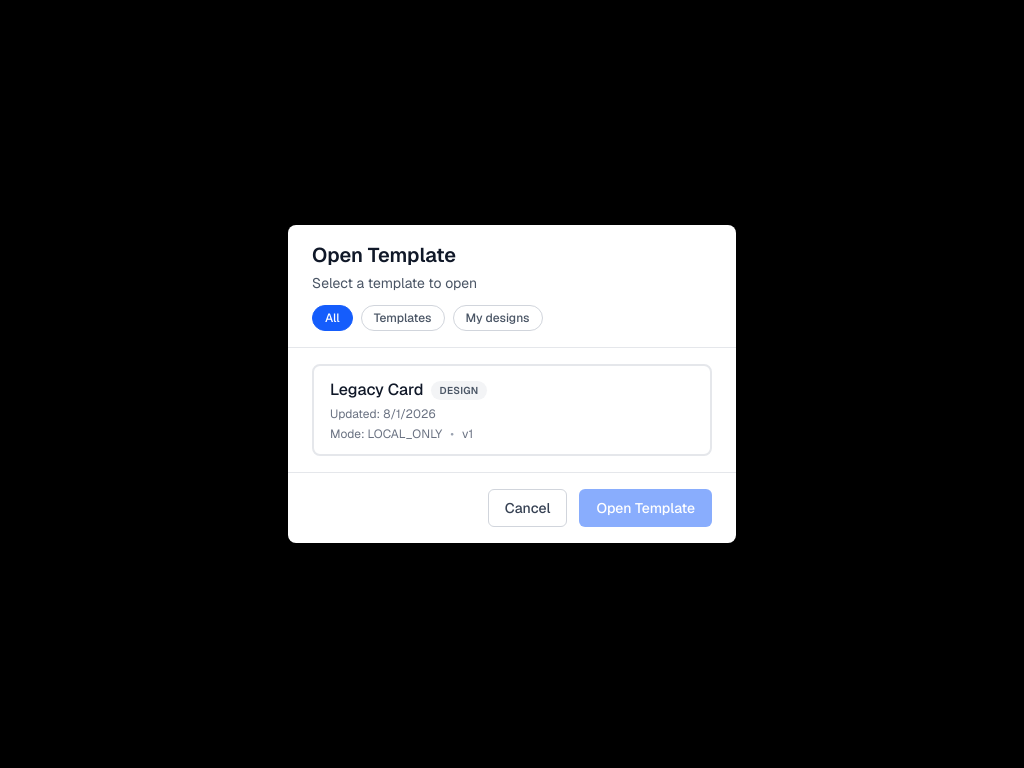
OpenTemplateModal gallery kind filter (Pass 4) › treats items without a kind as designs (legacy entries)
Check: the text "Legacy Card" is shown, box [330, 378, 424, 402]
Step 1. Click the button "My designs" → coordinates (498, 318), box [452, 305, 542, 331]
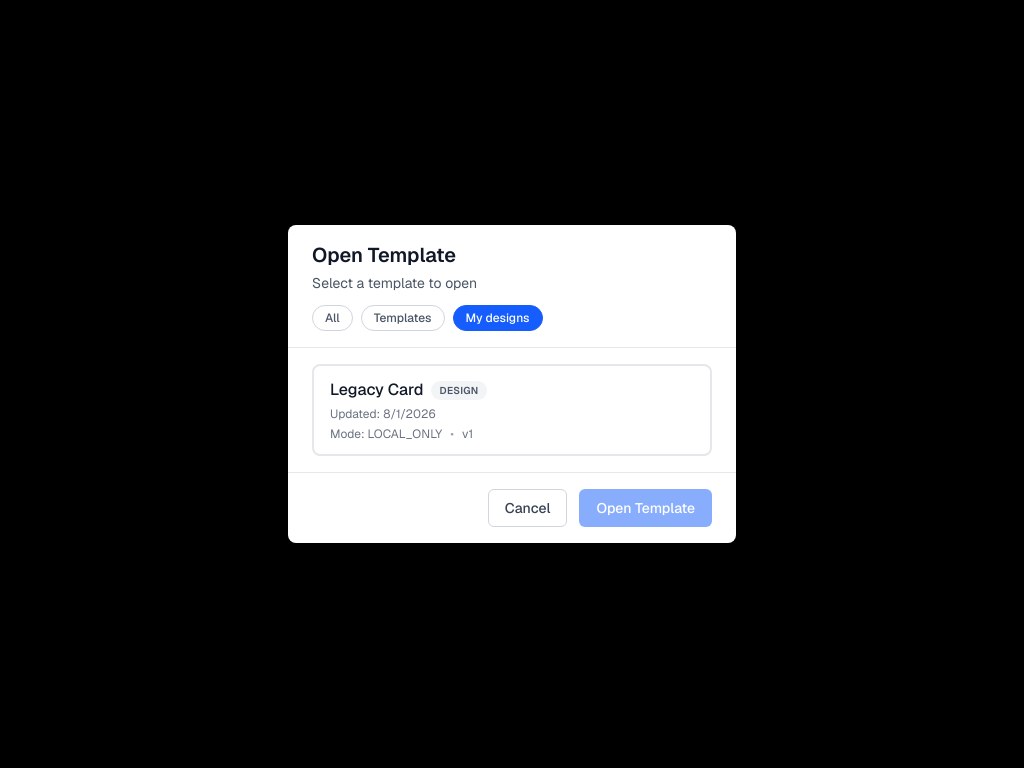
Check: the text "Legacy Card" is shown, box [330, 378, 424, 402]
Step 2. Click the button "Templates" → coordinates (403, 318), box [361, 305, 444, 331]
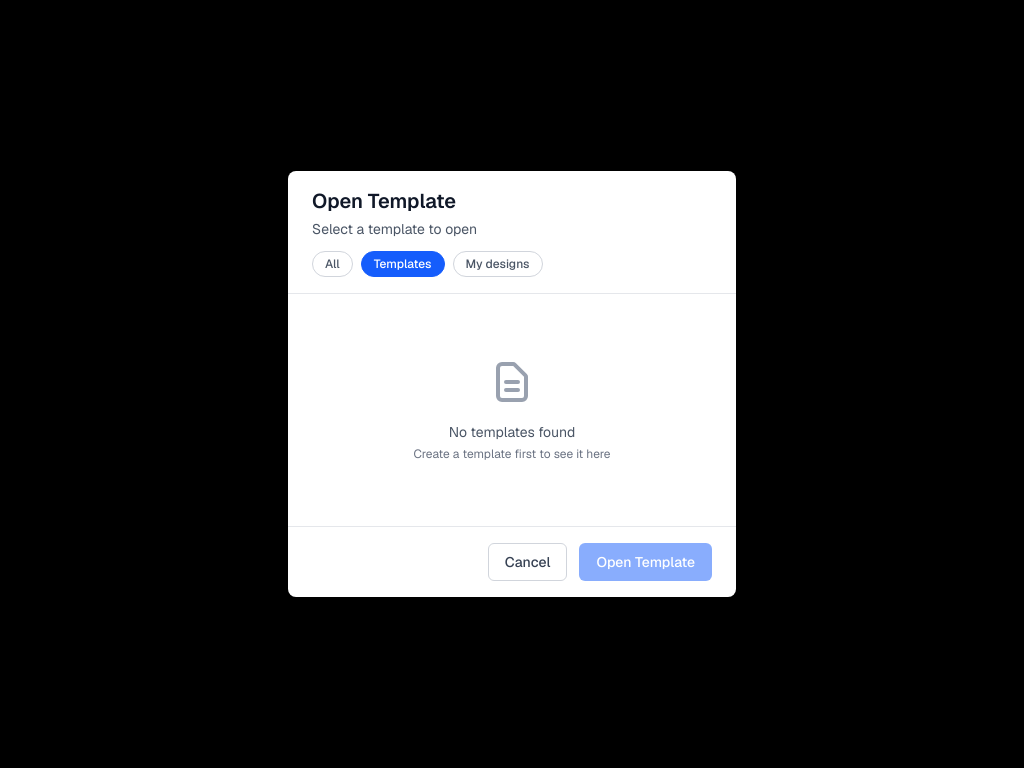
Check: the text "Legacy Card" is gone
